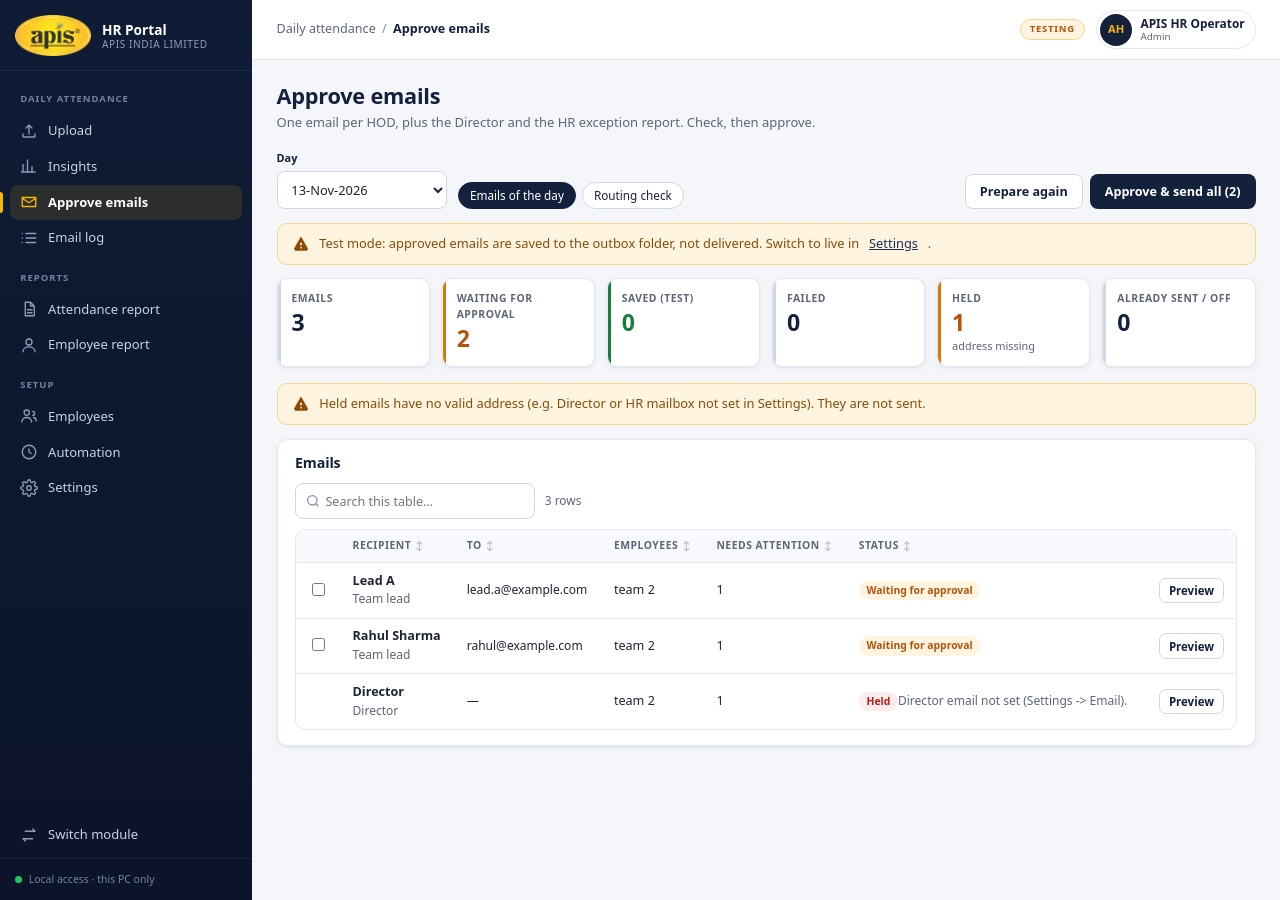
Test case: approve emails: preview mode lists every recipient and approves all or selected
Later steps or results of the test are not shown.
Expected: the text "Lead A" is shown, [352, 572, 395, 589]
Expected: the text "Director email not set (Settings -> Email)." is shown, [898, 692, 1127, 710]
Click the checkbox named "Select Rahul Sharma": (318,645) [312, 638, 325, 651]
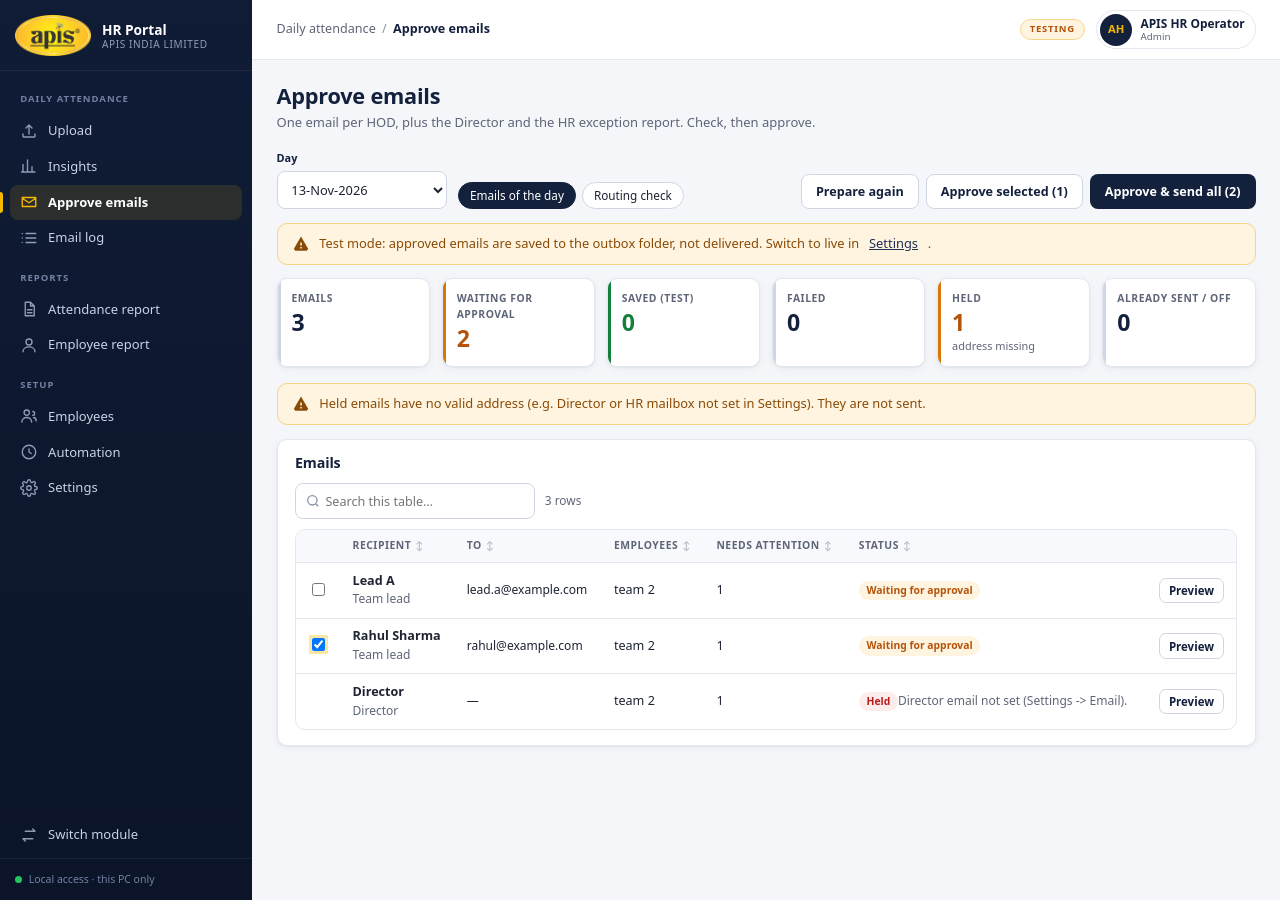
Click the button "Approve selected (1)": (1004,191) [926, 174, 1083, 209]
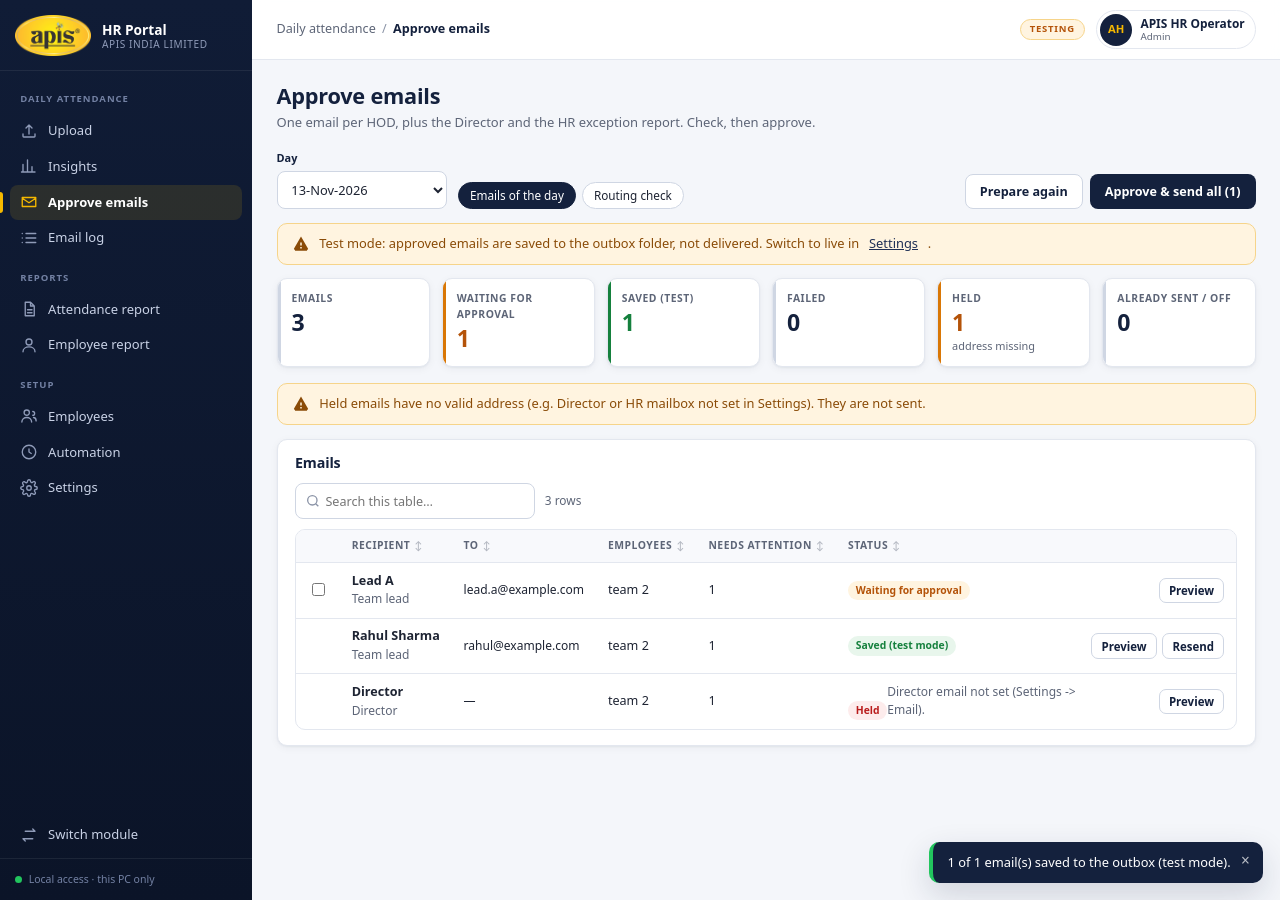
Expected: the text "1 of 1 email(s) saved to the outbox (test mode)." is shown, [948, 853, 1231, 872]
